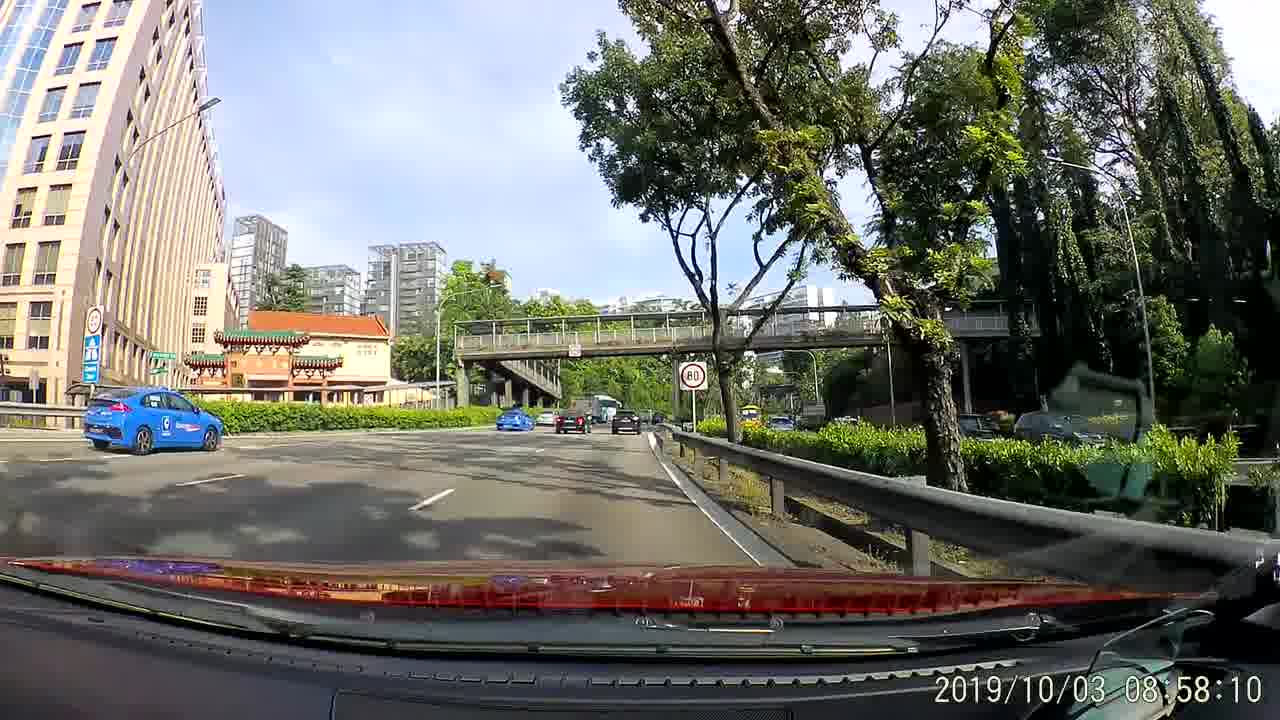car: (81, 377, 224, 457), (1014, 407, 1112, 448), (553, 408, 594, 432), (495, 406, 537, 429), (612, 410, 640, 434), (766, 416, 797, 437), (537, 410, 560, 425)
